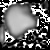node: (4, 4, 38, 39)
